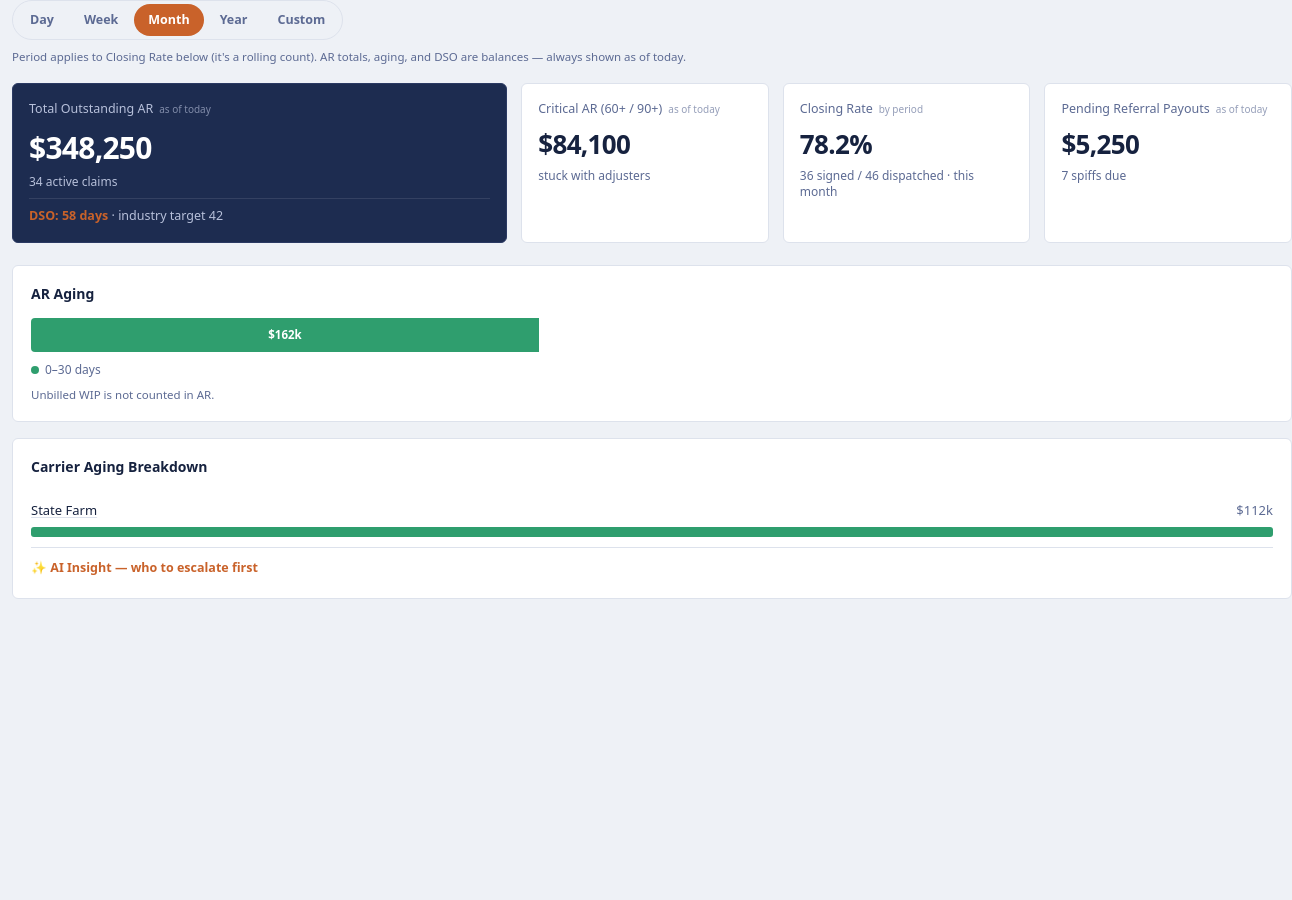
ExecutiveView › computes the closing rate for a valid custom range on Apply
Click the button "Custom". click: point(301, 20)
box: [264,4,339,36]
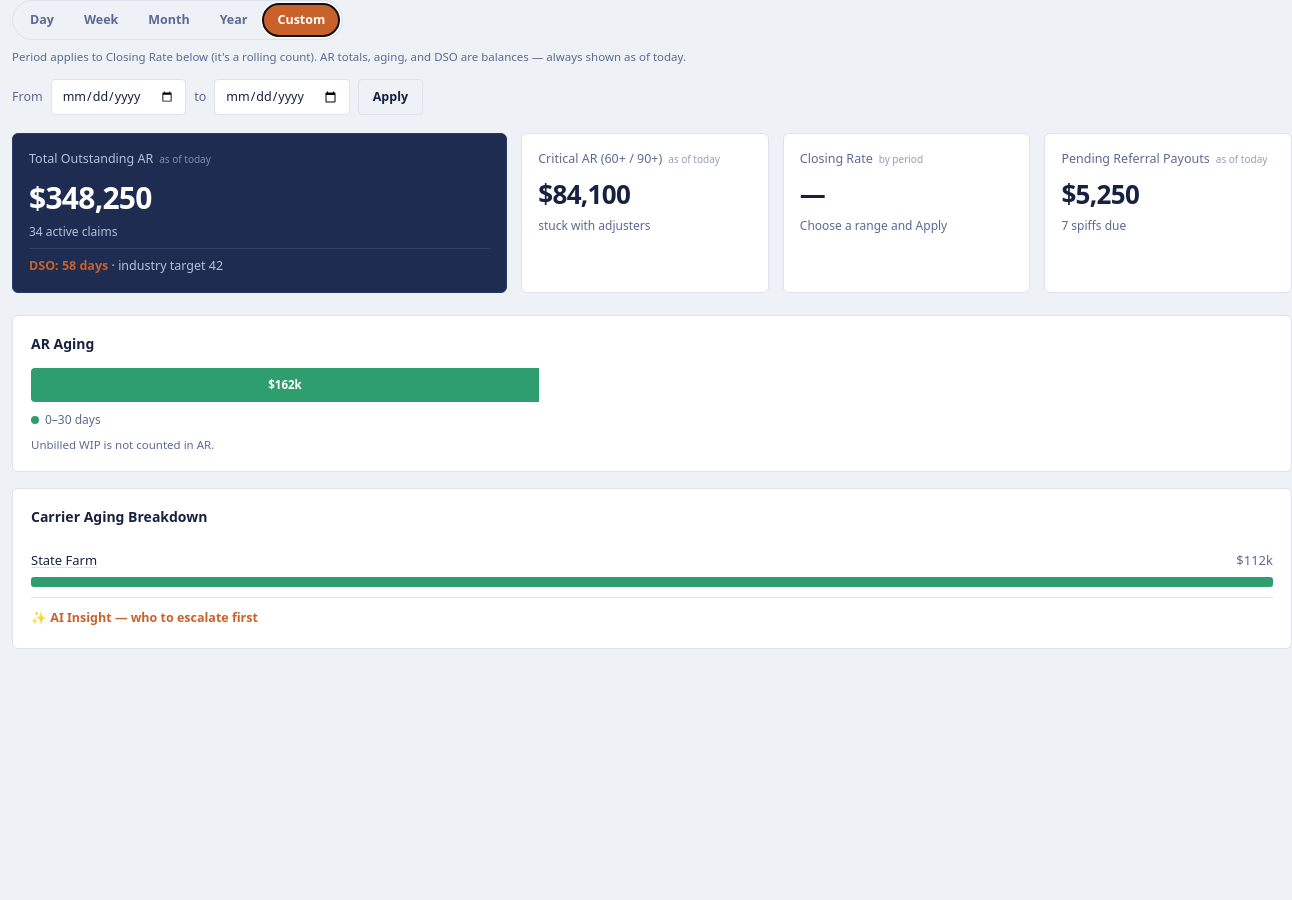
Type "2026-09-01" into the date field labelled "From". click: point(118, 97)
box: [51,79,186,115]
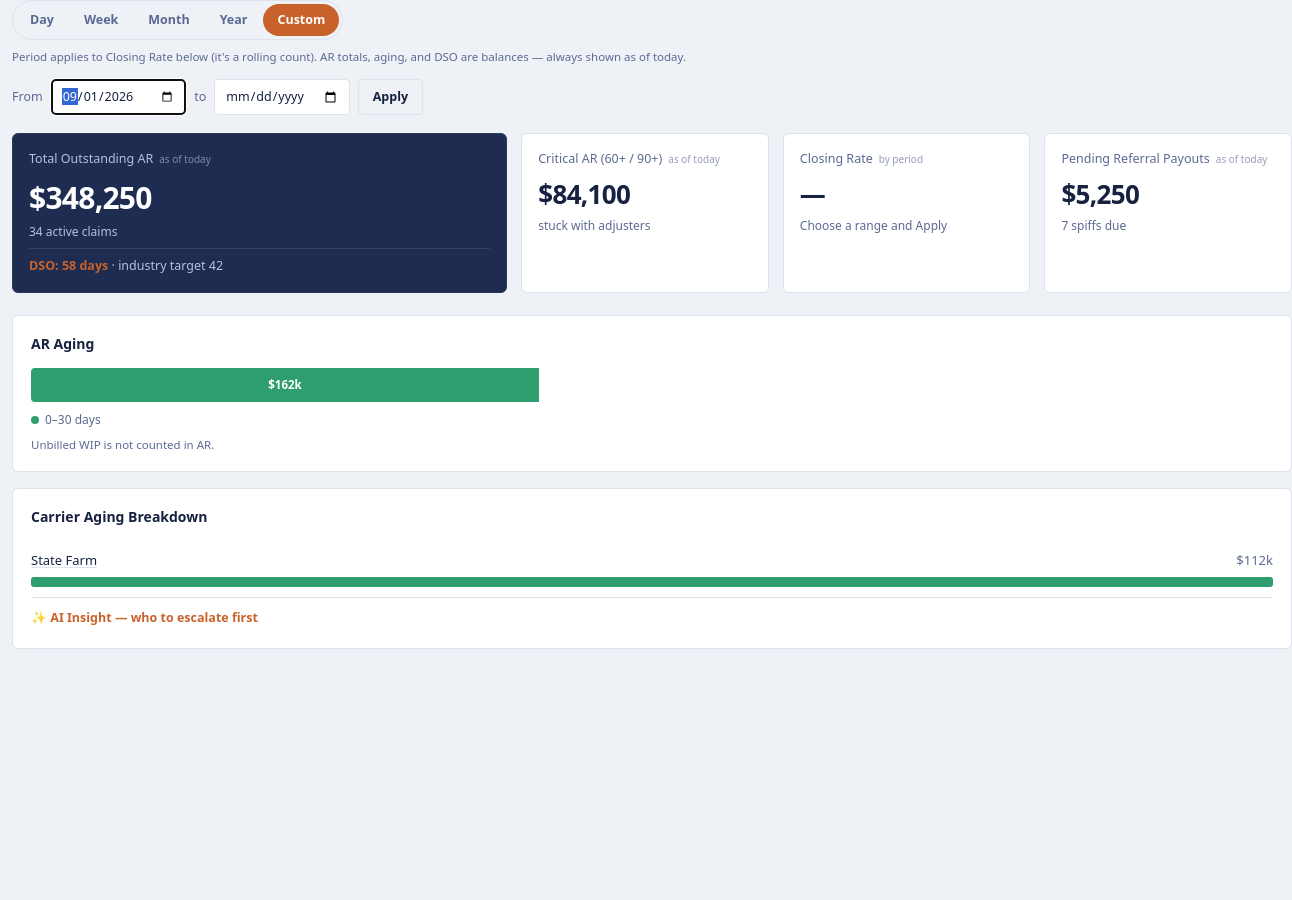
Type "2026-09-05" into the date field labelled "to". click: point(282, 97)
box: [214,79,350,115]
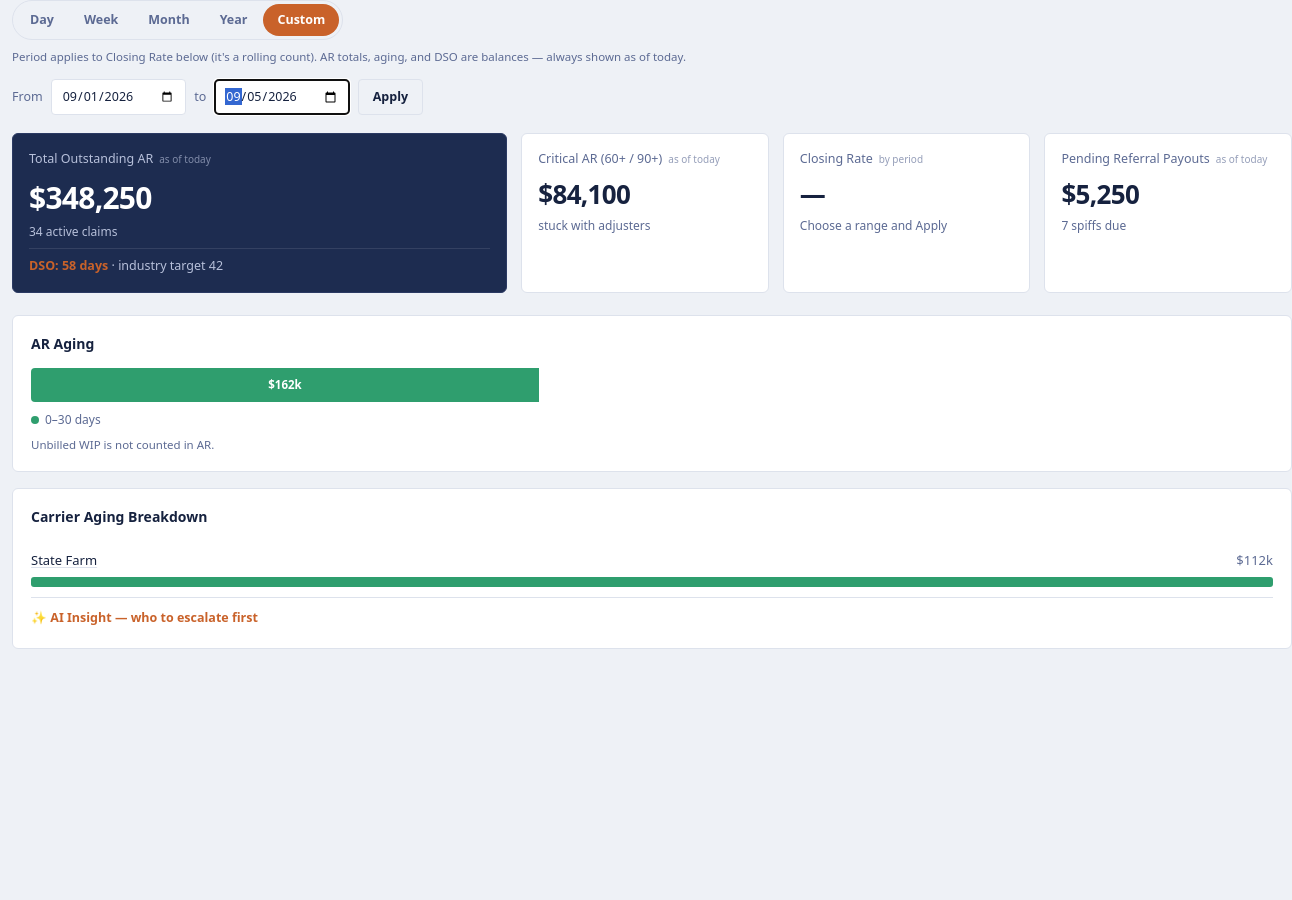
Click the button "Apply". click: point(390, 97)
box: [358,79,423,115]
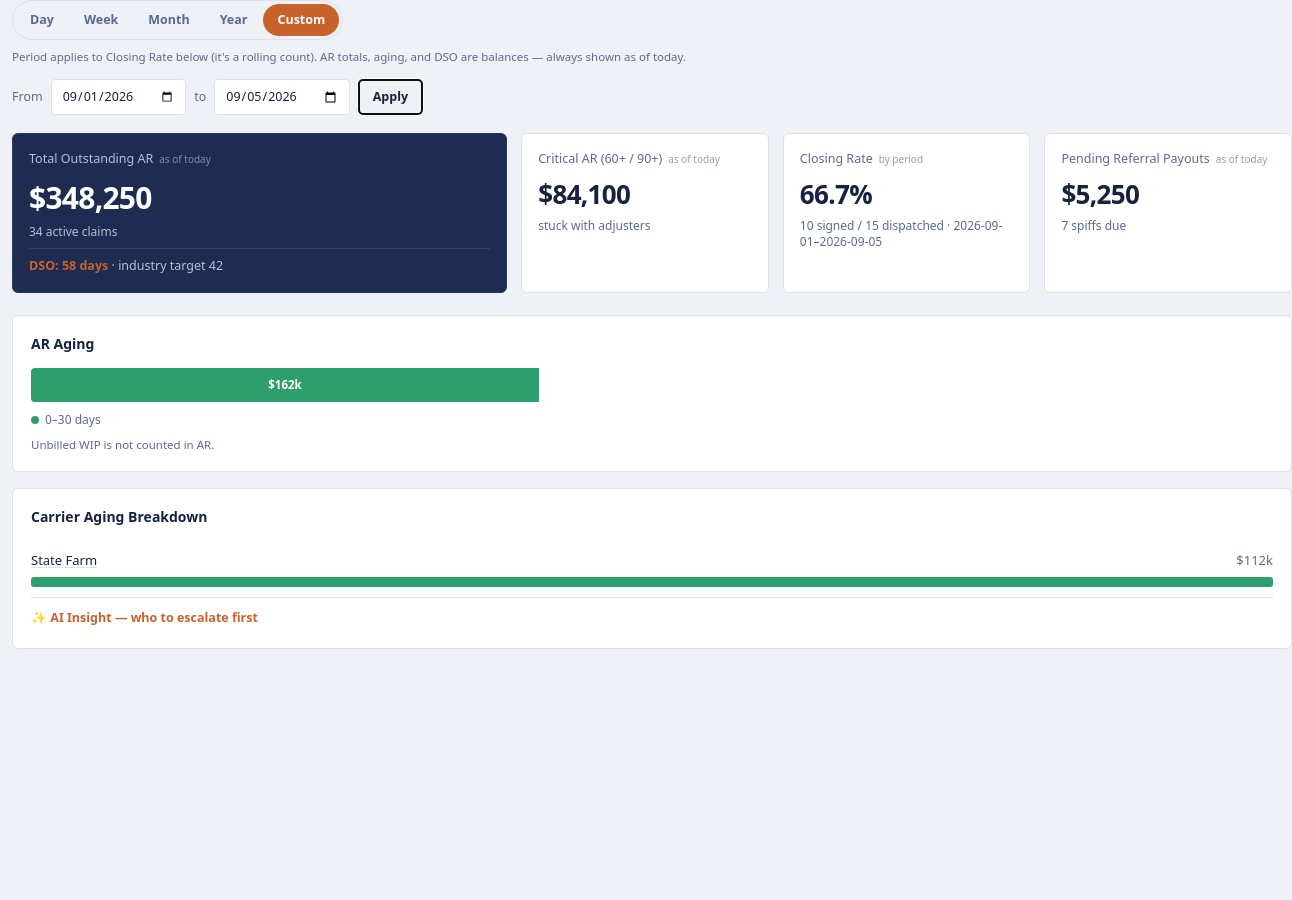
Now the text "66.7%" is shown, box [800,176,872,212]
Now the text "10 signed / 15 dispatched · 2026-09-01–2026-09-05" is shown, box [800,218,1013,250]
